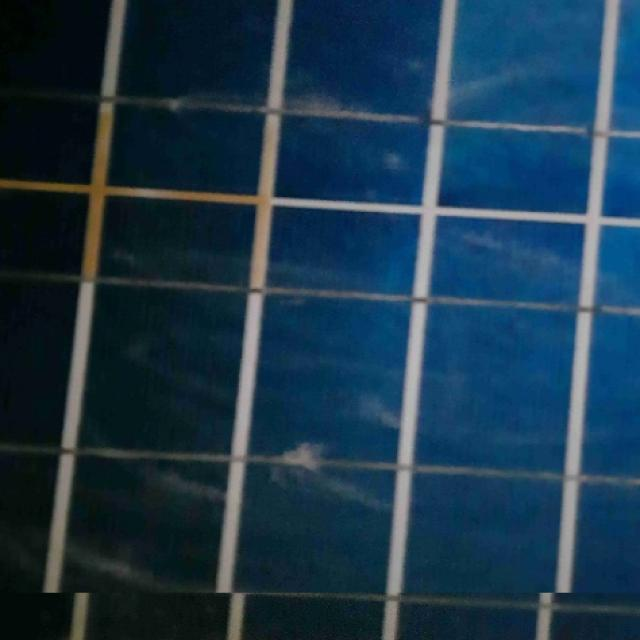Dirty: (0, 0, 640, 593)
